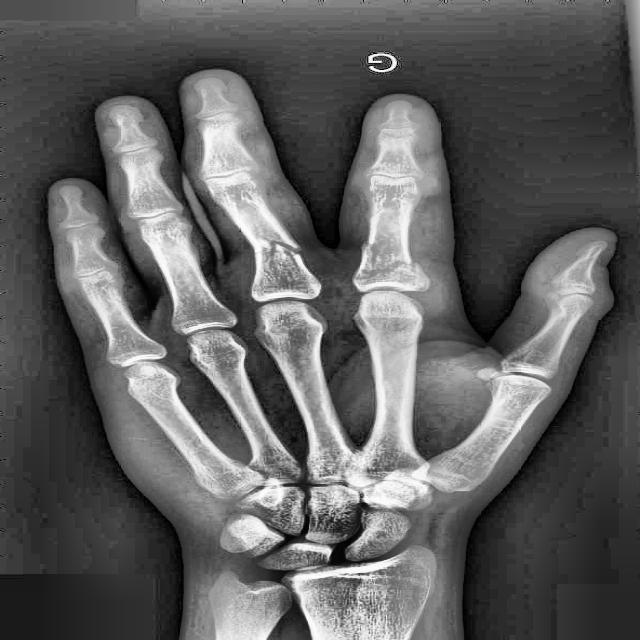fracture: (356, 239, 422, 278), (248, 237, 302, 258)
